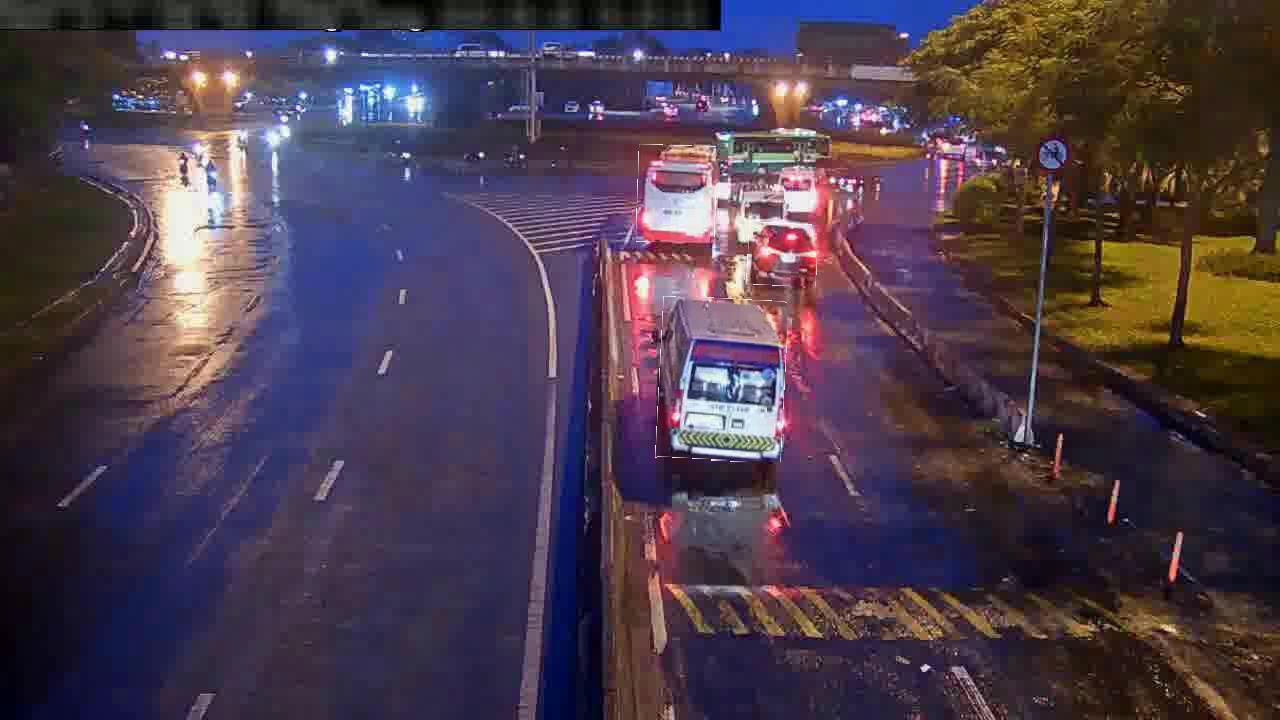14: (657, 298, 786, 462), (637, 145, 717, 243)
container: (747, 223, 818, 287)
